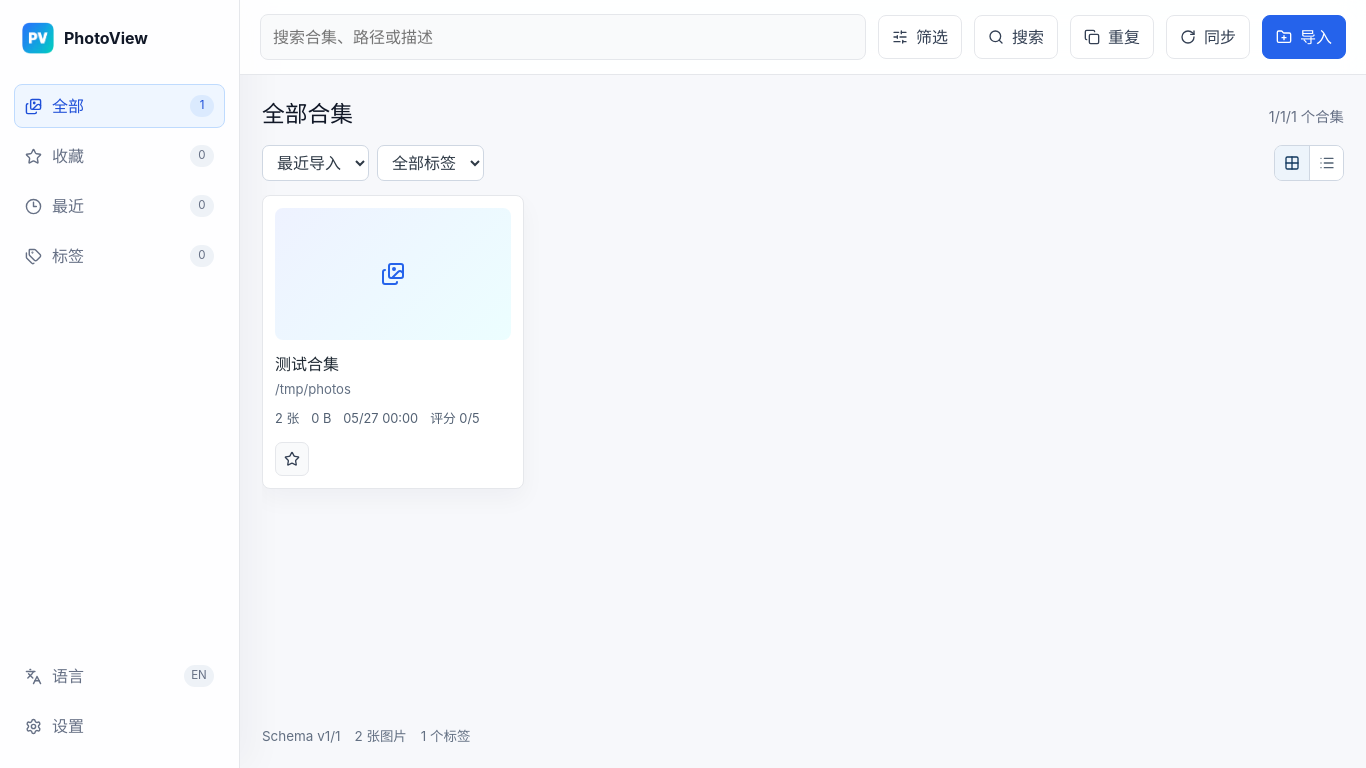
App › selects visible images for copy paths and batch favorite actions
The image size is (1366, 768).
Step 1. Click the heading "测试合集" → (307, 364), box [275,352,339,376]
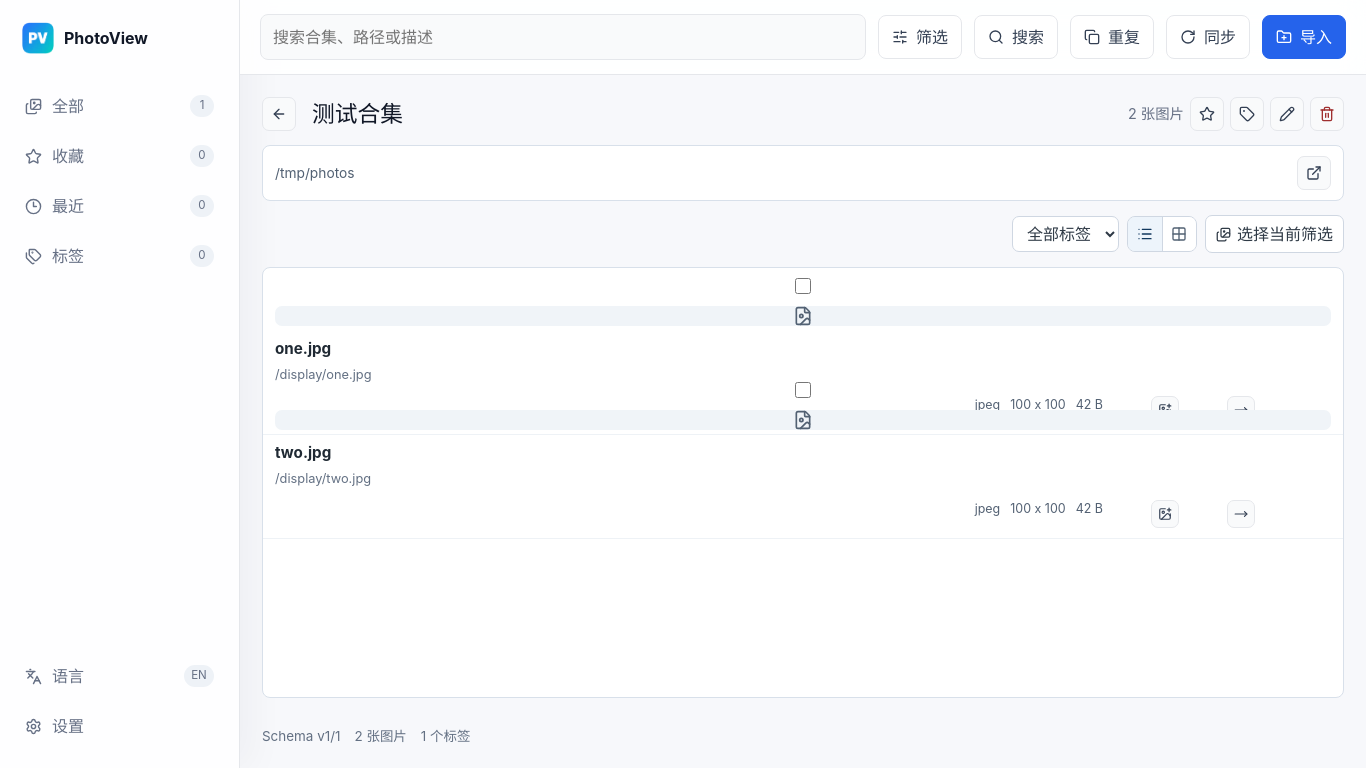
Expected: the button "选择当前筛选" is enabled
Step 2. Click the button "选择当前筛选" → (1274, 234), box [1205,215,1344,253]
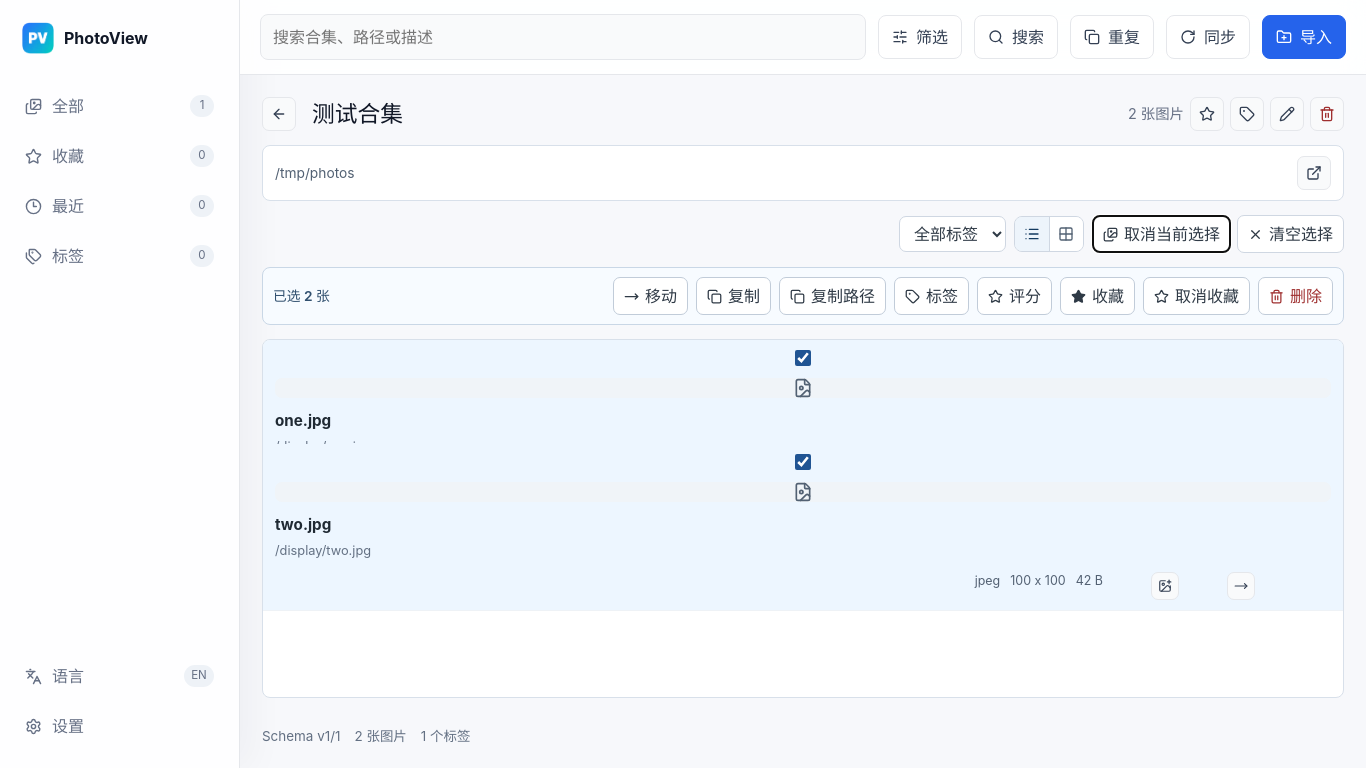
Expected: the text "已选 2 张" is shown, [273,286,330,306]
Step 3. Click the button "复制路径" → (832, 296), box [779,277,886,315]
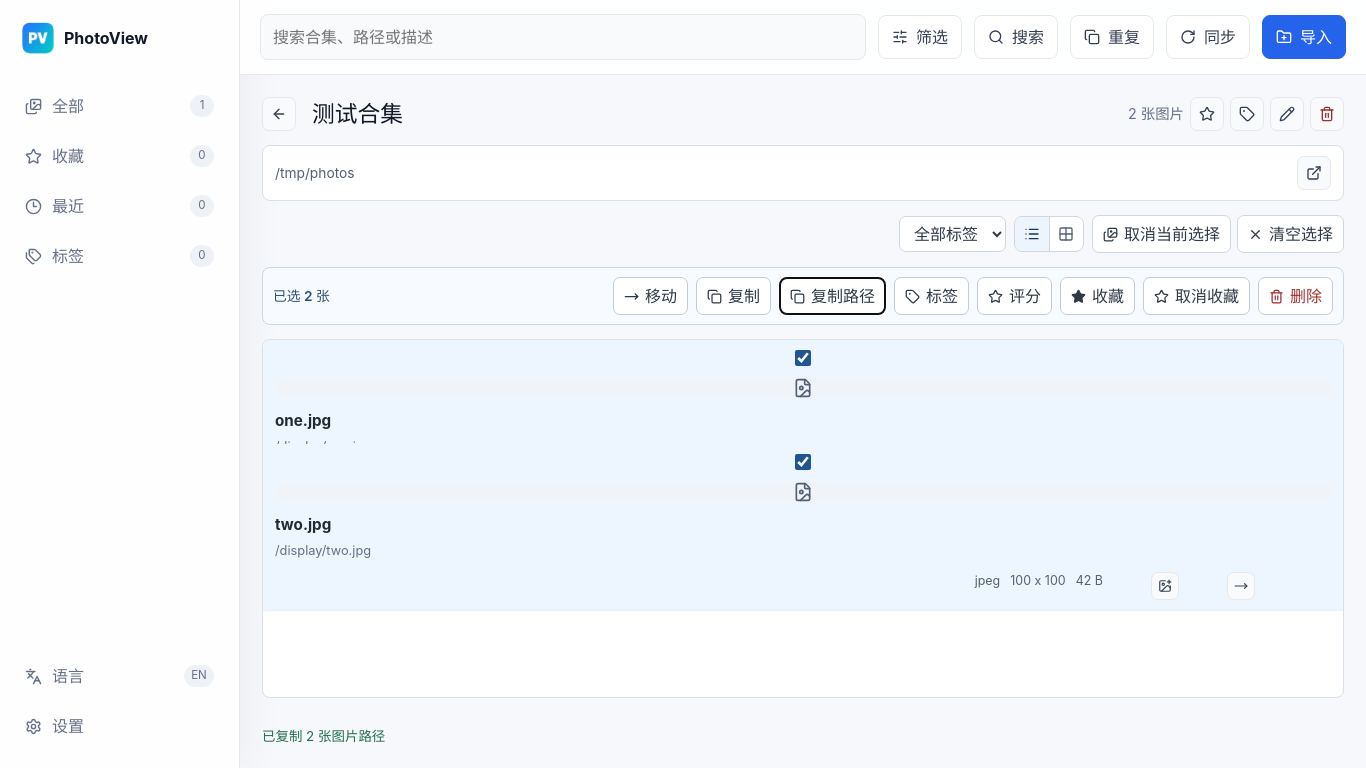
Step 4. Click the button "收藏" → (1098, 296), box [1060,277,1135,315]
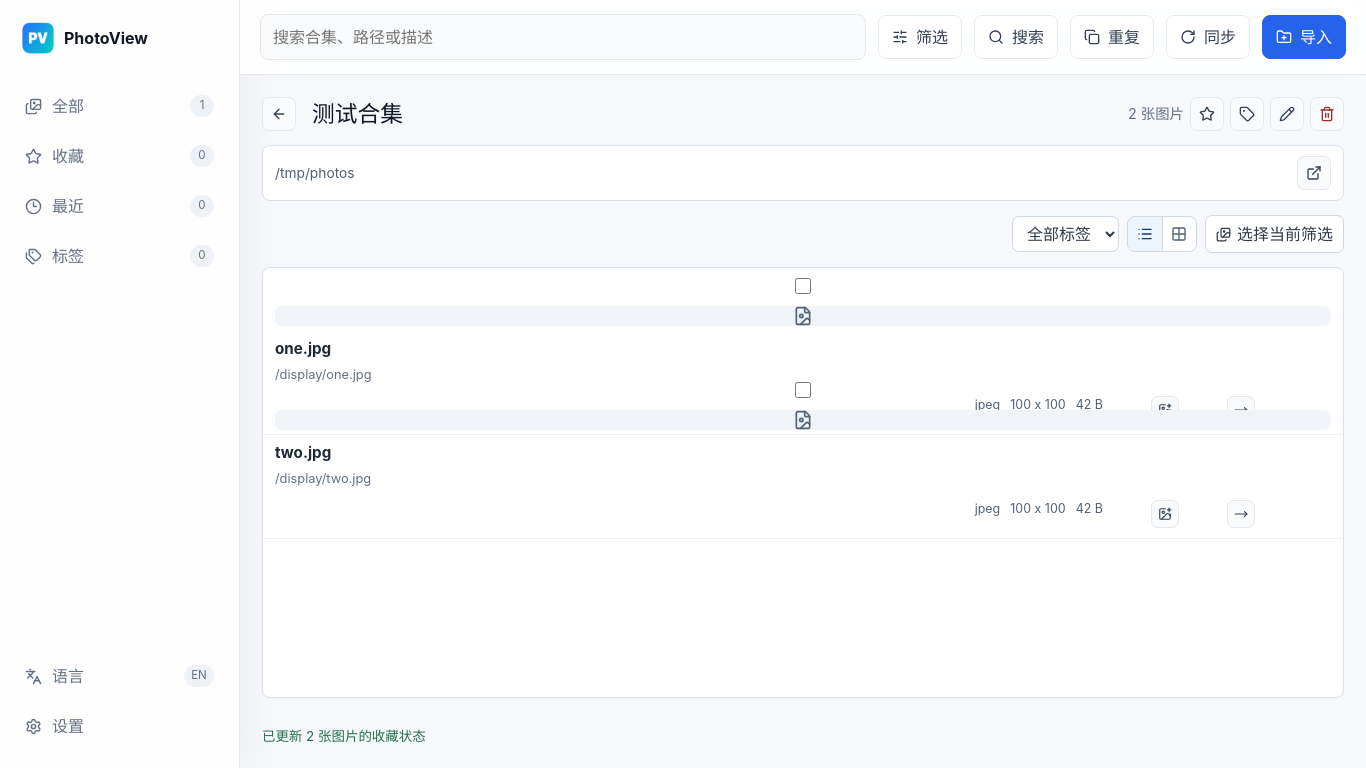
Expected: the text "已更新 2 张图片的收藏状态" is shown, [262,726,426,746]
